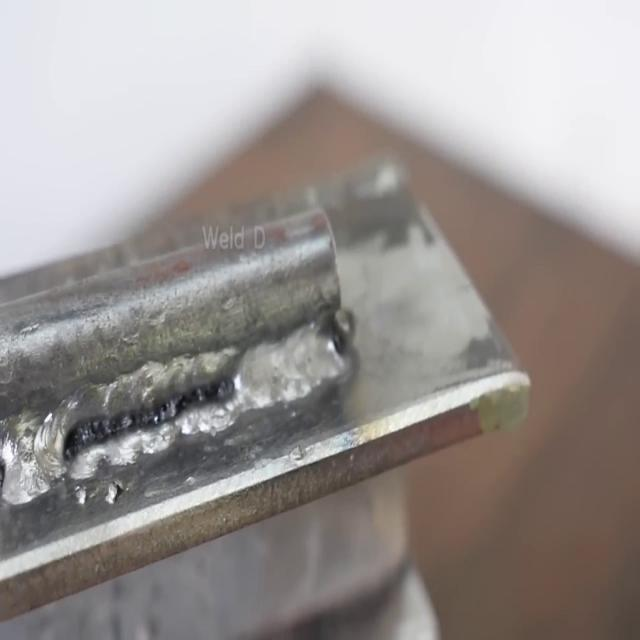Bad Welding: (2, 322, 334, 502)
Porosity: (57, 371, 235, 464)
